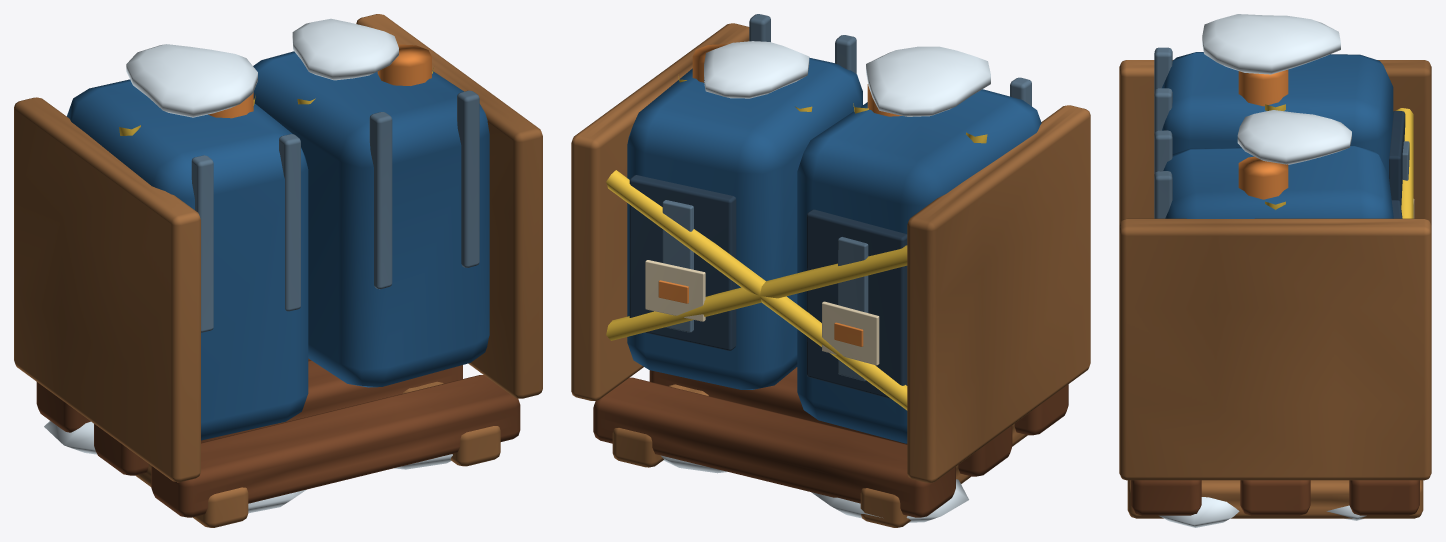
The model's file is fuel_canister.glb.
The picture shows the model from 3 angles, left to right: view 1: azimuth 30°, elevation 25°; view 2: azimuth 150°, elevation 25°; view 3: azimuth 270°, elevation 25°; orthographic projection. The views are drawn at different scales.
Visible parts, largest first — view 1: fuel_canister; view 2: fuel_canister; view 3: fuel_canister.
Boxes of the visible parts, <box> form: fuel_canister: <box>14,14,542,527</box>; fuel_canister: <box>571,14,1090,527</box>; fuel_canister: <box>1119,14,1431,527</box>.
Bounding box in the file's own units: 1.02 × 1.09 × 0.78.
